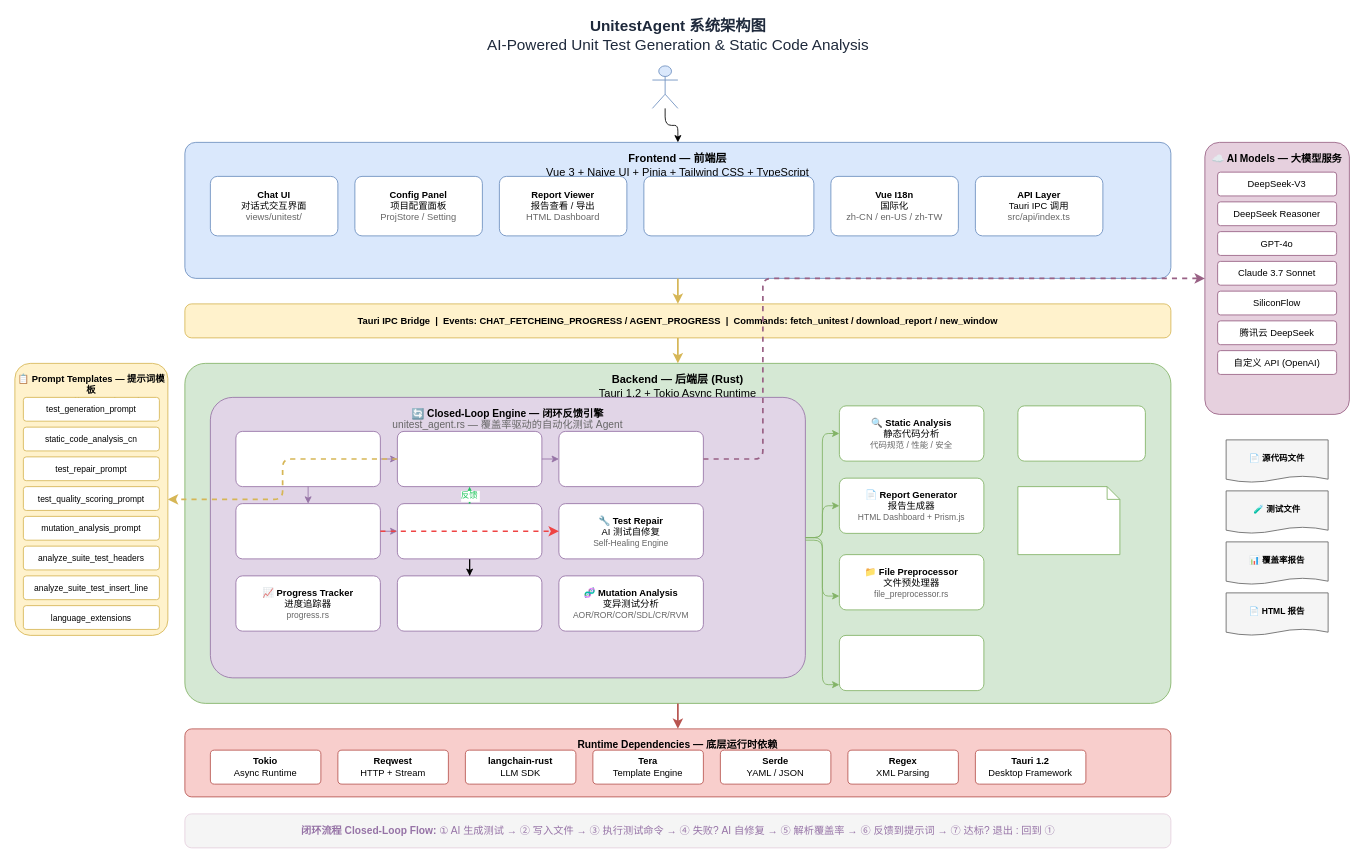
The diagram is 1364 pixels wide and 863 high, and some of its shapes have lost their labels. The centre of each missing label's shape, as x and y in pixels:
Coverage Formats Cobertura XML LCOV Jacoco XML: (x=1068, y=520)
Pinia Store 状态管理 app / chat / unitest / user / auth / prompt: (x=728, y=206)
⚙️ Config 配置管理 TOML Prompt Config: (x=911, y=663)
🏃 Runner 测试执行器 Shell Command Exec: (x=307, y=531)
🏆 Quality Scoring 测试质量评分 5 维度评估 (0-100): (x=469, y=603)
👤 用户 / Developer: (x=665, y=86)
📊 Coverage Processor 覆盖率解析器 Cobertura / Lcov / Jacoco: (x=469, y=531)
📋 Logger 日志系统 custom_logger.rs: (x=1081, y=433)
📝 Prompt Builder 提示词构建器 Tera + TOML 模板: (x=469, y=459)
📡 AI Caller LLM 流式调用 langchain-rust + reqwest: (x=630, y=459)
🤖 Test Generator AI 测试生成器 unitest_agent_test_generator.rs: (x=307, y=459)
